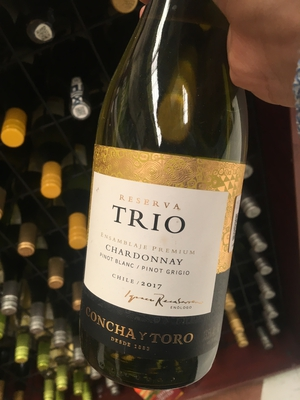trio chardonnay: (65, 25, 254, 388)
